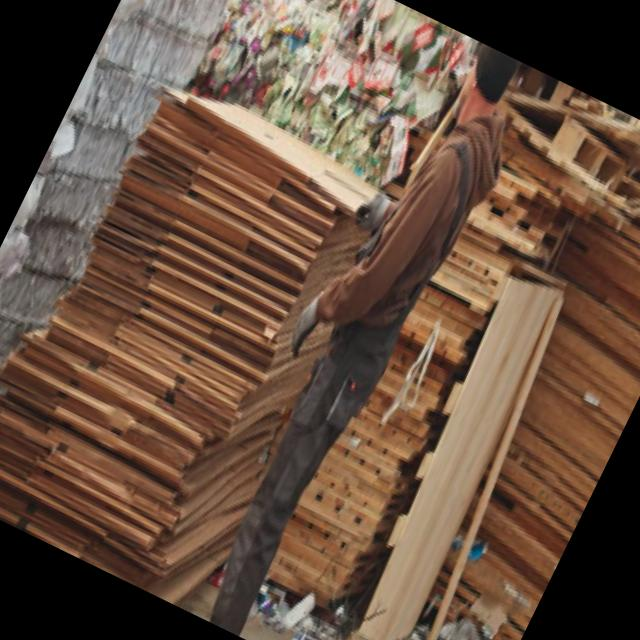Kardus: (0, 58, 411, 615)
